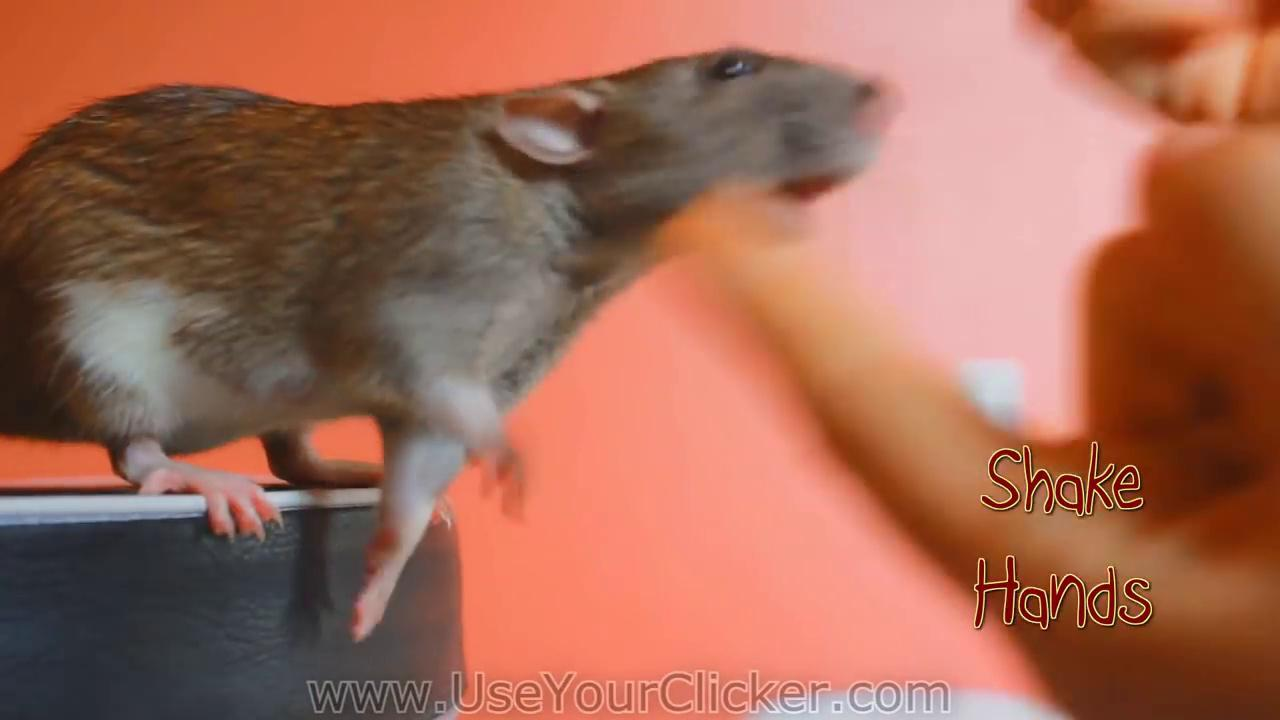rat: (0, 44, 905, 642)
